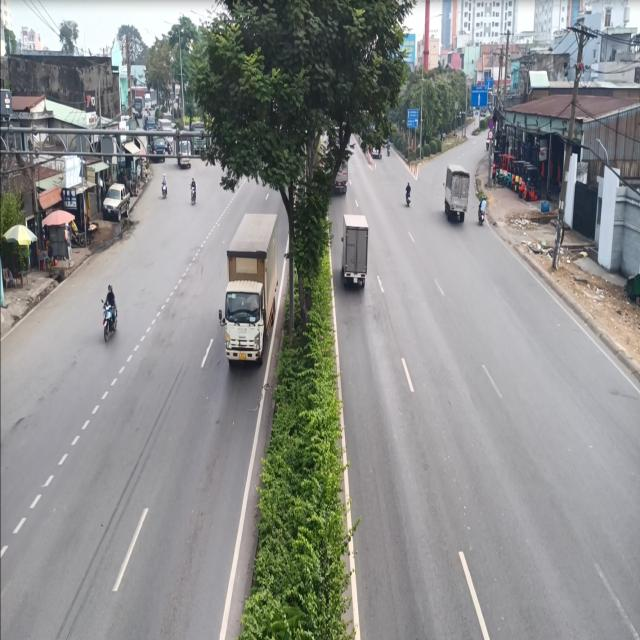motor: (100, 271, 120, 349), (476, 186, 490, 238), (405, 173, 415, 216), (156, 170, 169, 200), (190, 178, 198, 212)
truck: (218, 207, 276, 372), (339, 207, 369, 294), (440, 158, 474, 234)
